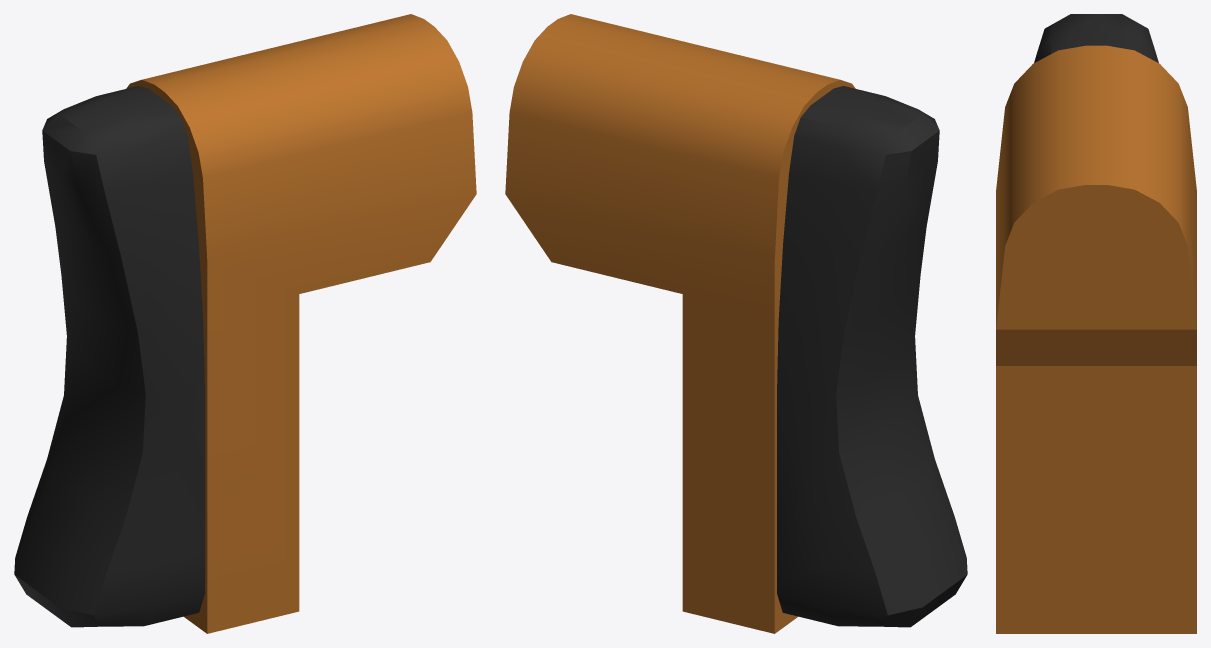
The model's file is quaternius-modular-sci-fi-guns-stock-ar-6.glb.
3 renders of one model, left to right at view 1: azimuth 30°, elevation 25°; view 2: azimuth 150°, elevation 25°; view 3: azimuth 270°, elevation 25°, orthographic. The views are drawn at different scales.
Parts seen in each view (by area): view 1: Stock_AR_6; view 2: Stock_AR_6; view 3: Stock_AR_6.
Boxes of the visible parts, x1,y1,x2,y2 form: Stock_AR_6: [14, 14, 476, 633]; Stock_AR_6: [505, 14, 967, 633]; Stock_AR_6: [996, 14, 1196, 633].
Bounding box in the file's own units: 0.3479 × 0.4327 × 0.1456.
